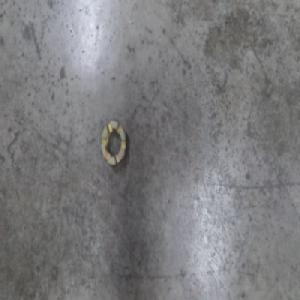Nut: (99, 116, 128, 168)
